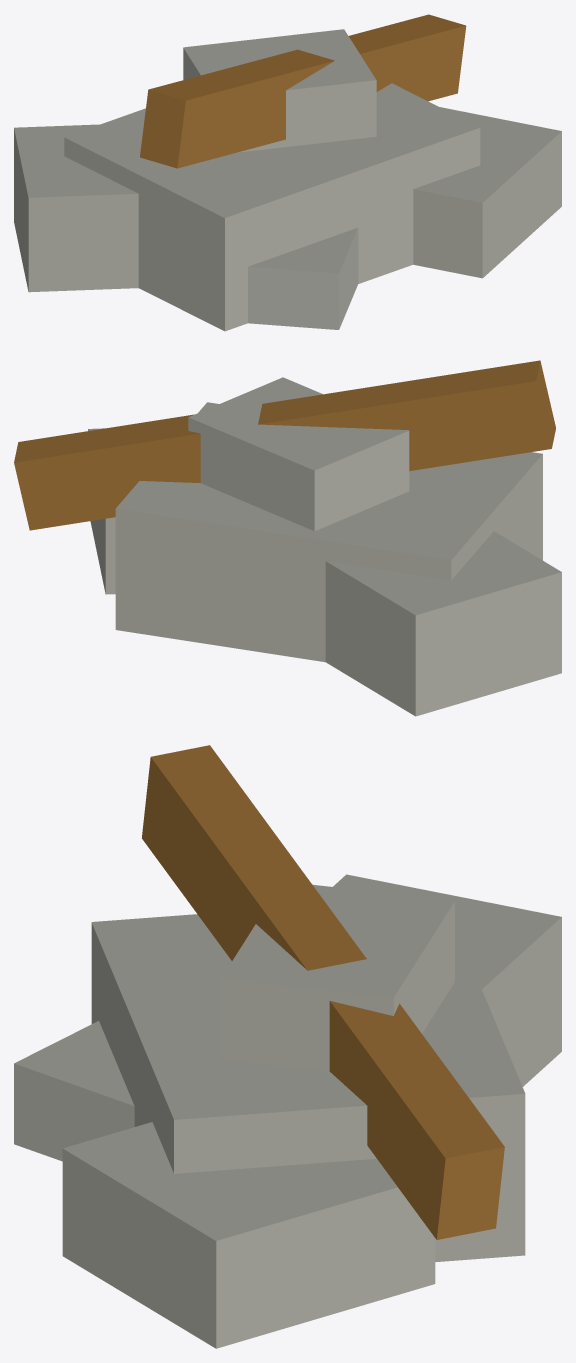
Rendered from SM_KitSueltas_v6_LOD1.fbx.
3 renders of one model, top to bottom at view 1: azimuth 30°, elevation 25°; view 2: azimuth 150°, elevation 25°; view 3: azimuth 270°, elevation 25°, orthographic. The views are drawn at different scales.
Parts seen in each view (by area): view 1: SM_bloques.kit_sueltas_v6_LOD1; view 2: SM_bloques.kit_sueltas_v6_LOD1; view 3: SM_bloques.kit_sueltas_v6_LOD1.
Boxes of the visible parts, x1,y1,x2,y2 form: SM_bloques.kit_sueltas_v6_LOD1: (14, 14, 561, 331); SM_bloques.kit_sueltas_v6_LOD1: (14, 360, 561, 716); SM_bloques.kit_sueltas_v6_LOD1: (14, 745, 561, 1348).
Size of the model in its own units: 2.7 by 1.17 by 1.84.
